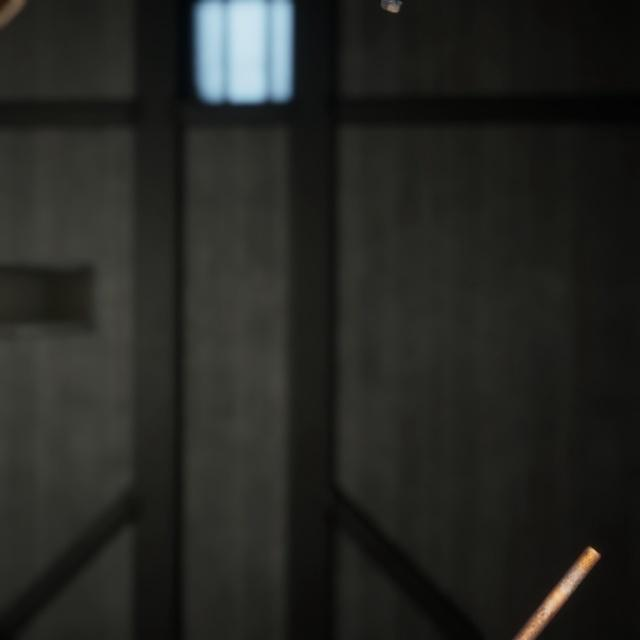bolt: (488, 517, 605, 640)
